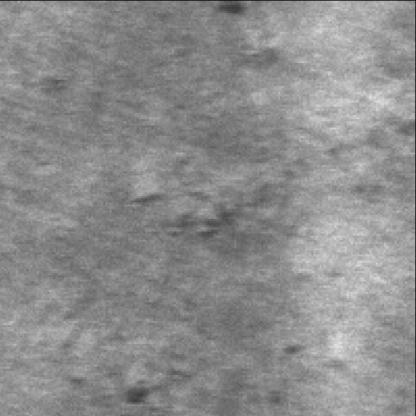rolled-in_scale: (131, 143, 299, 252), (46, 316, 171, 402)
